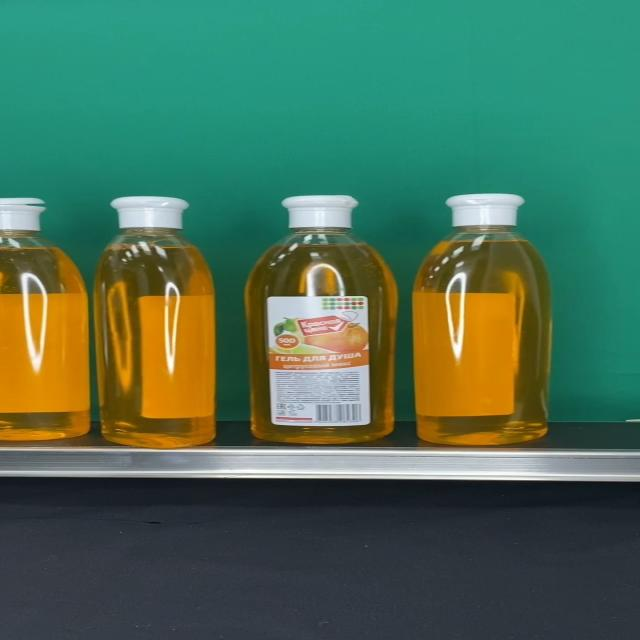Bottle: (245, 196, 398, 443), (412, 193, 550, 446), (94, 196, 215, 448)
Cap: (445, 193, 527, 227), (110, 196, 188, 229), (281, 196, 361, 228)
